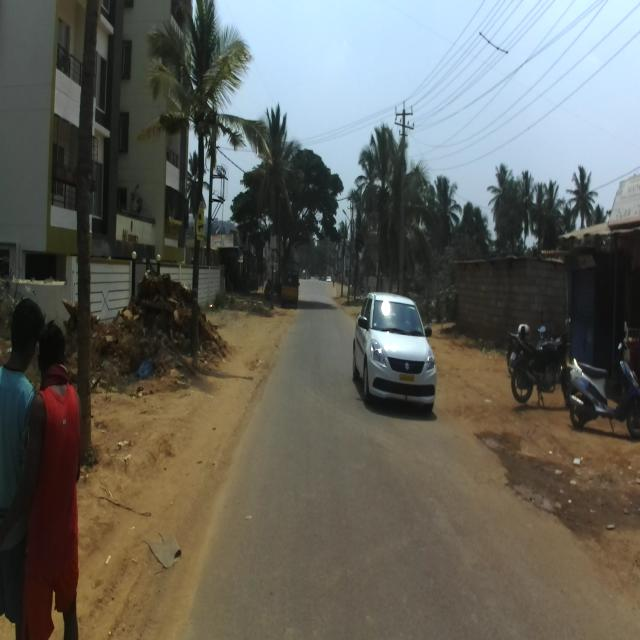car ahead at: (350, 289, 440, 411)
motorcycle ahead at: (556, 331, 640, 434)
person ahead at: (23, 324, 88, 640)
tree ahead at: (160, 12, 244, 381)
